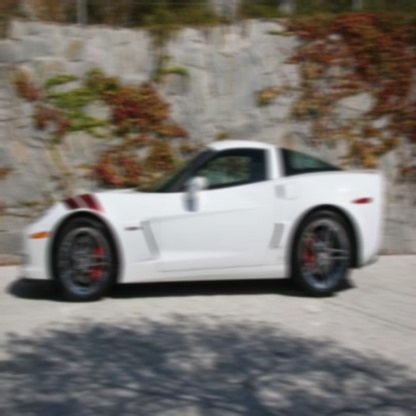Vehicle: (20, 136, 386, 298)
